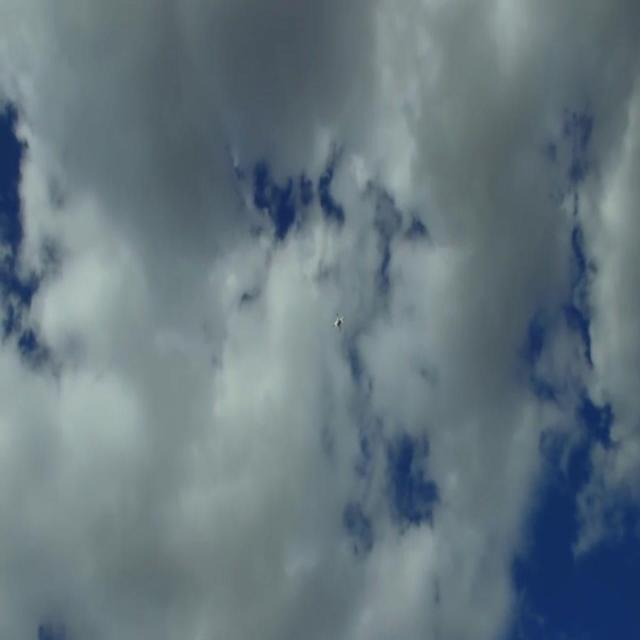UAV: (332, 313, 344, 330)
